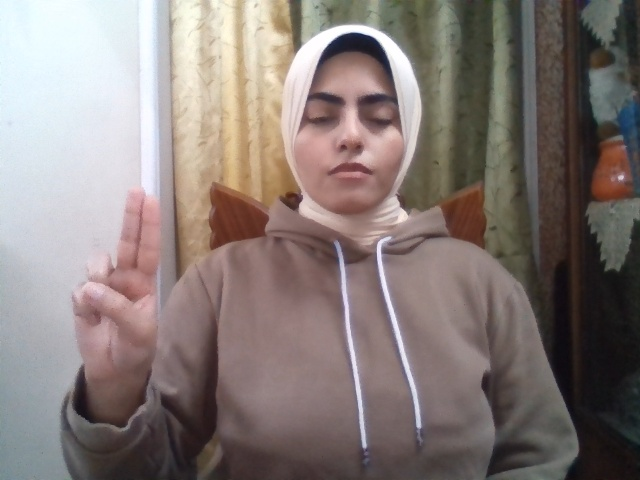U: (70, 186, 161, 383)
